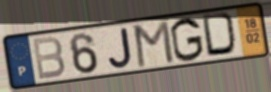6: (68, 31, 100, 75)
B: (30, 35, 67, 82)
D: (200, 11, 241, 59)
G: (169, 16, 206, 64)
J: (107, 26, 134, 70)
M: (132, 19, 176, 70)
